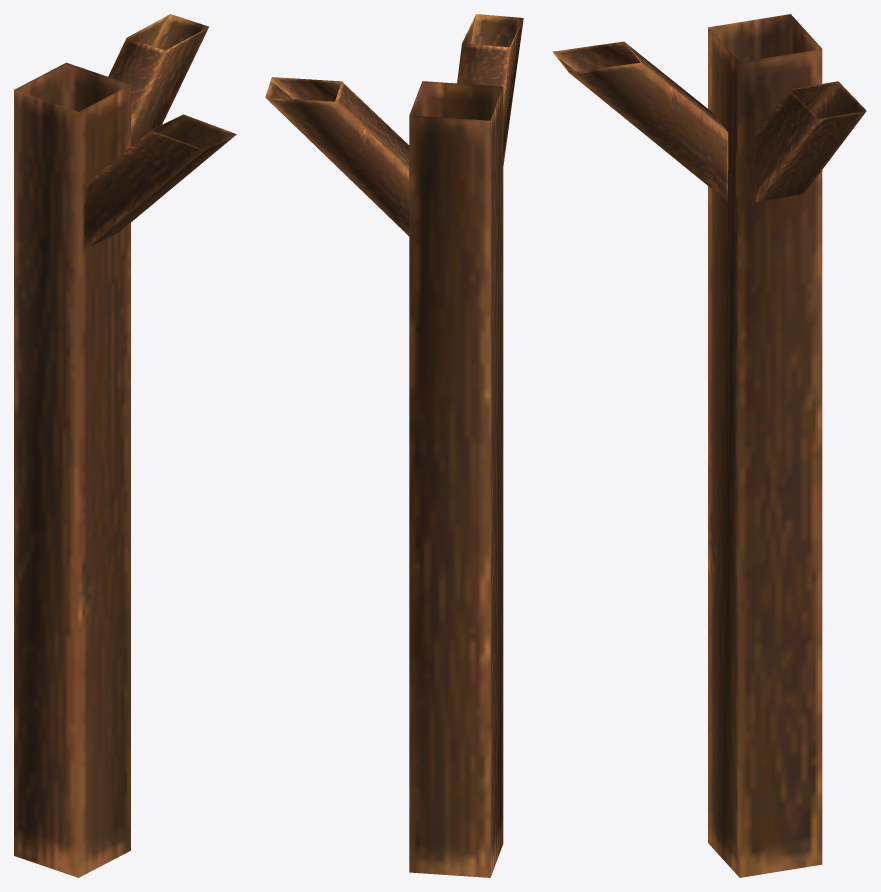
The model's file is SWORDLIGHT20_JAILPLATSUPPORT70.fbx.
3 views of the same model, side by side, from view 1: azimuth 30°, elevation 25°; view 2: azimuth 150°, elevation 25°; view 3: azimuth 270°, elevation 25° (orthographic). The views are drawn at different scales.
Parts seen in each view (by area): view 1: SWORDLIGHT20_JAILPLATSUPPORT70; view 2: SWORDLIGHT20_JAILPLATSUPPORT70; view 3: SWORDLIGHT20_JAILPLATSUPPORT70.
Boxes of the visible parts, x1=… form: SWORDLIGHT20_JAILPLATSUPPORT70: x1=14, y1=14, x2=236, y2=877; SWORDLIGHT20_JAILPLATSUPPORT70: x1=265, y1=14, x2=523, y2=877; SWORDLIGHT20_JAILPLATSUPPORT70: x1=552, y1=14, x2=866, y2=877.
Size of the model in its own units: 11573 by 40830 by 14221.
1 material, 1 textured.
